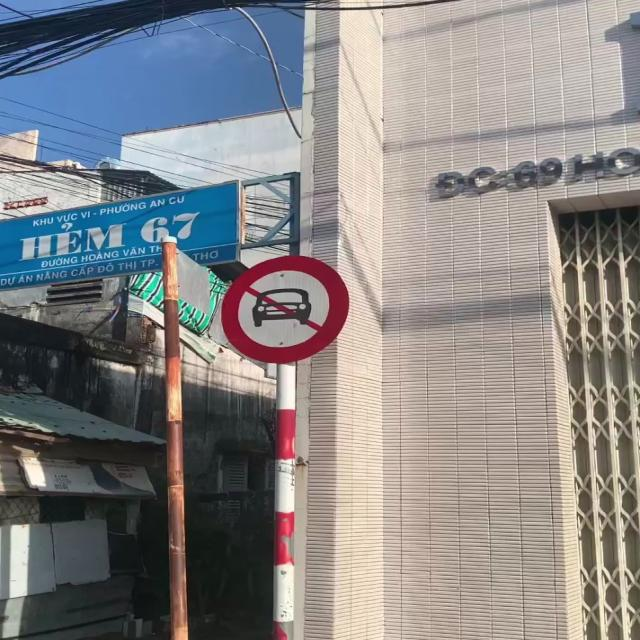Cam_O_To: (221, 255, 347, 362)
